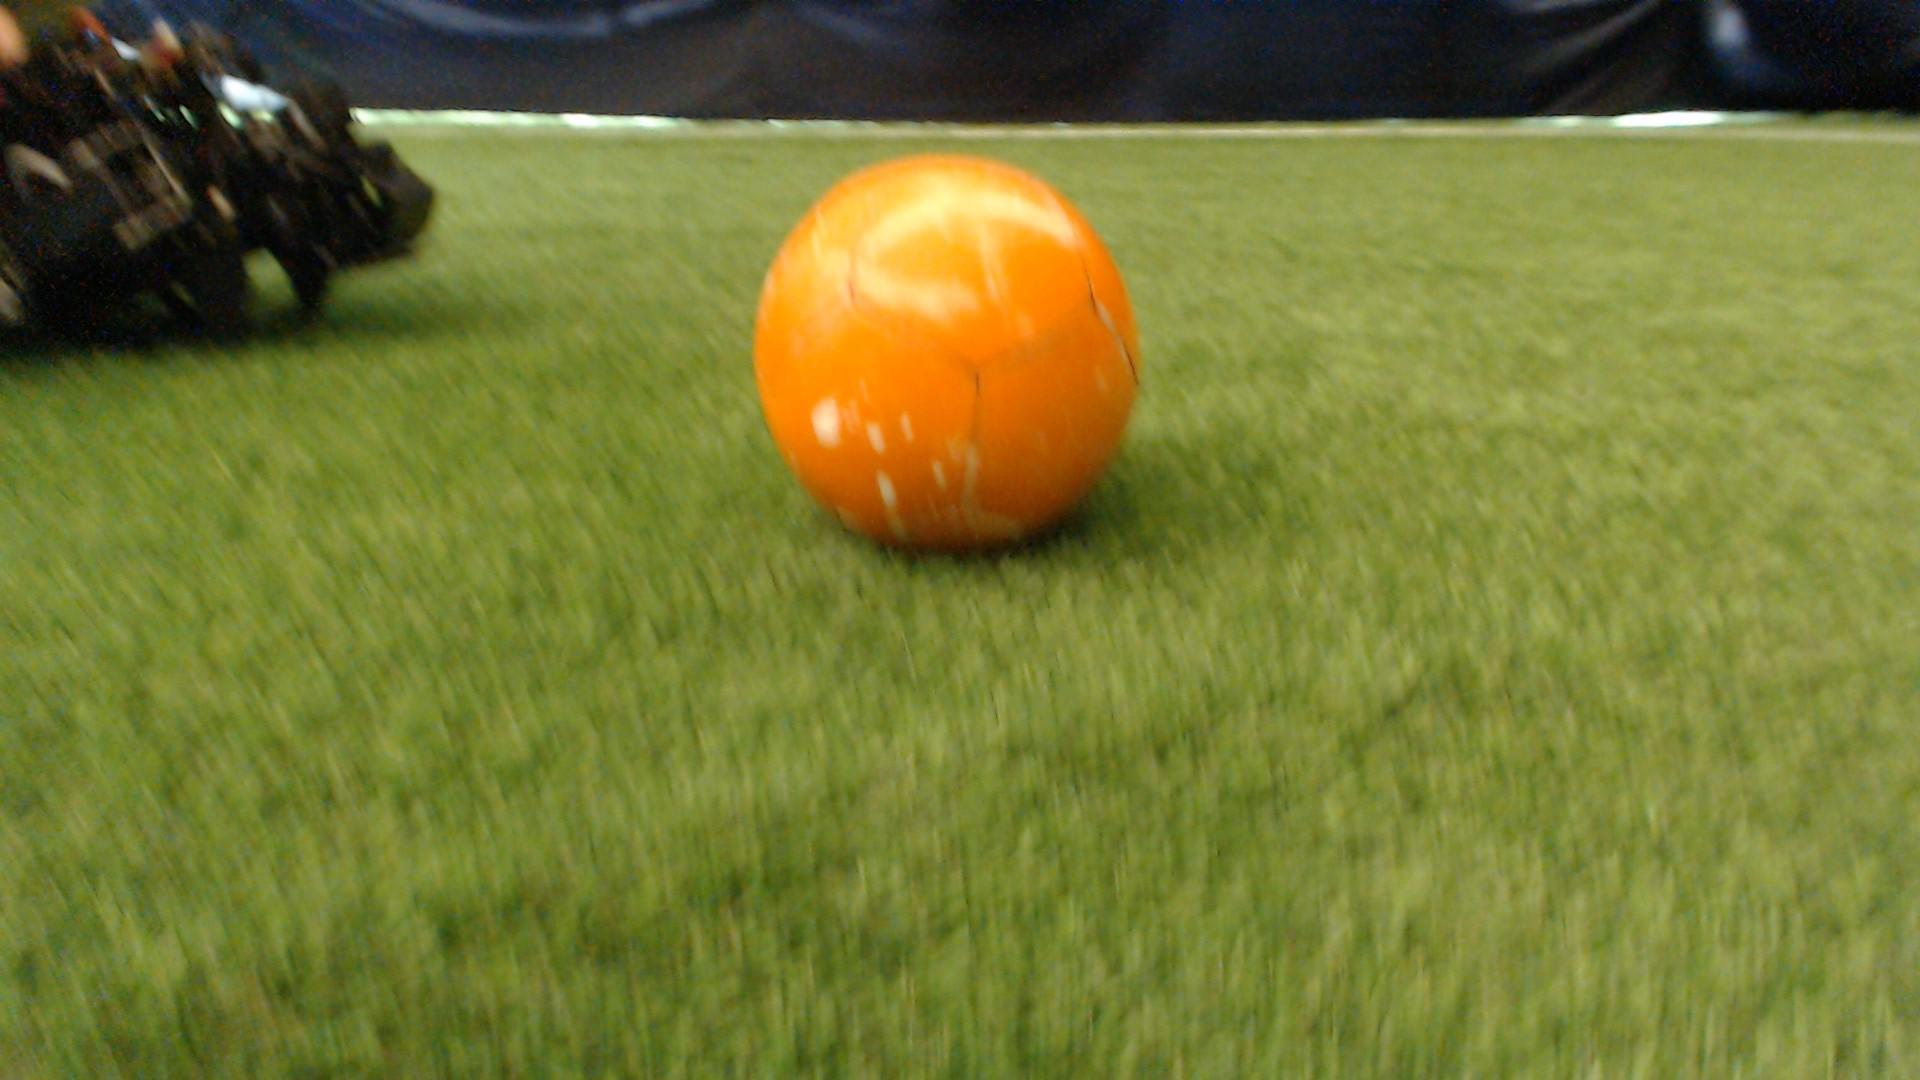bola: (741, 132, 1156, 574)
